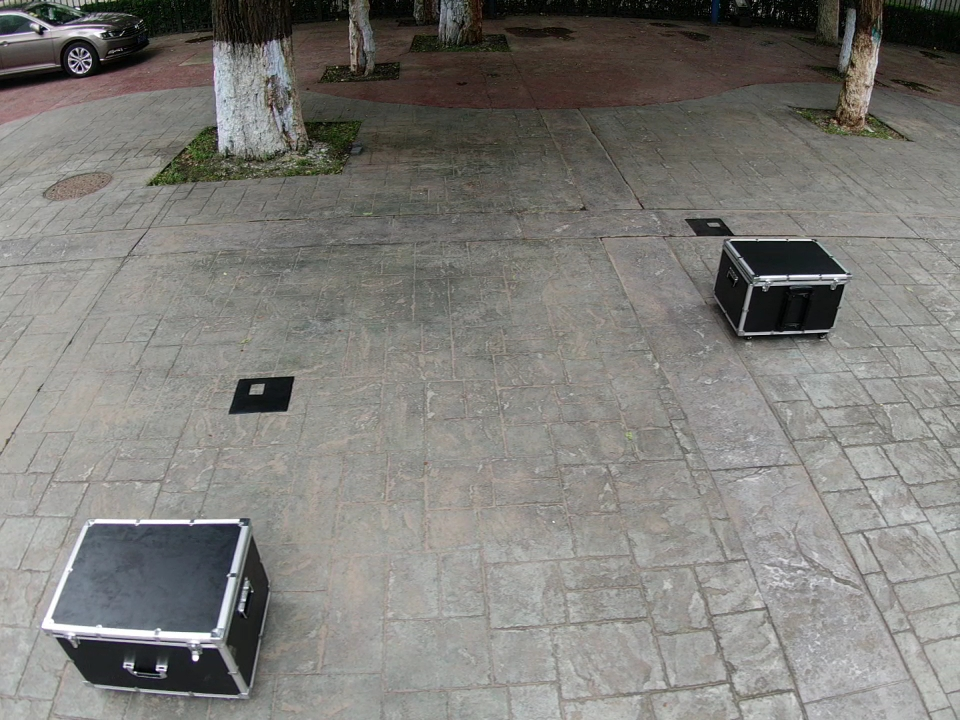box: (42, 519, 271, 699), (713, 239, 851, 337)
qrcode: (229, 376, 295, 414), (685, 218, 735, 236)
